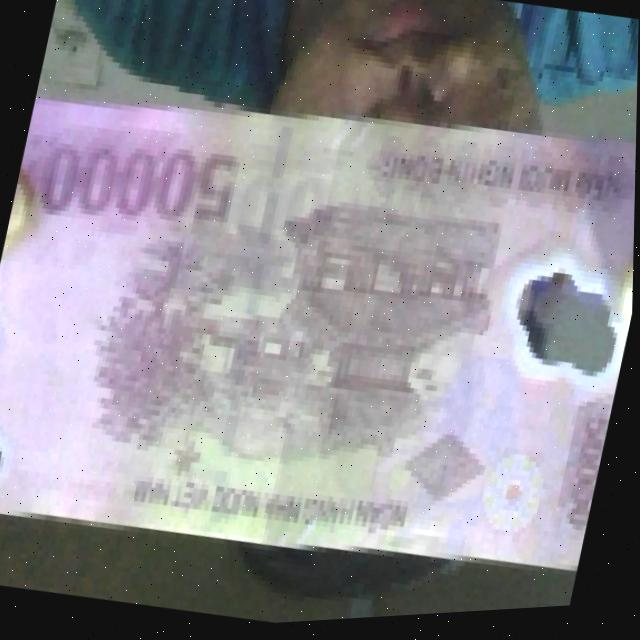50 000 VND: (0, 29, 639, 635)
